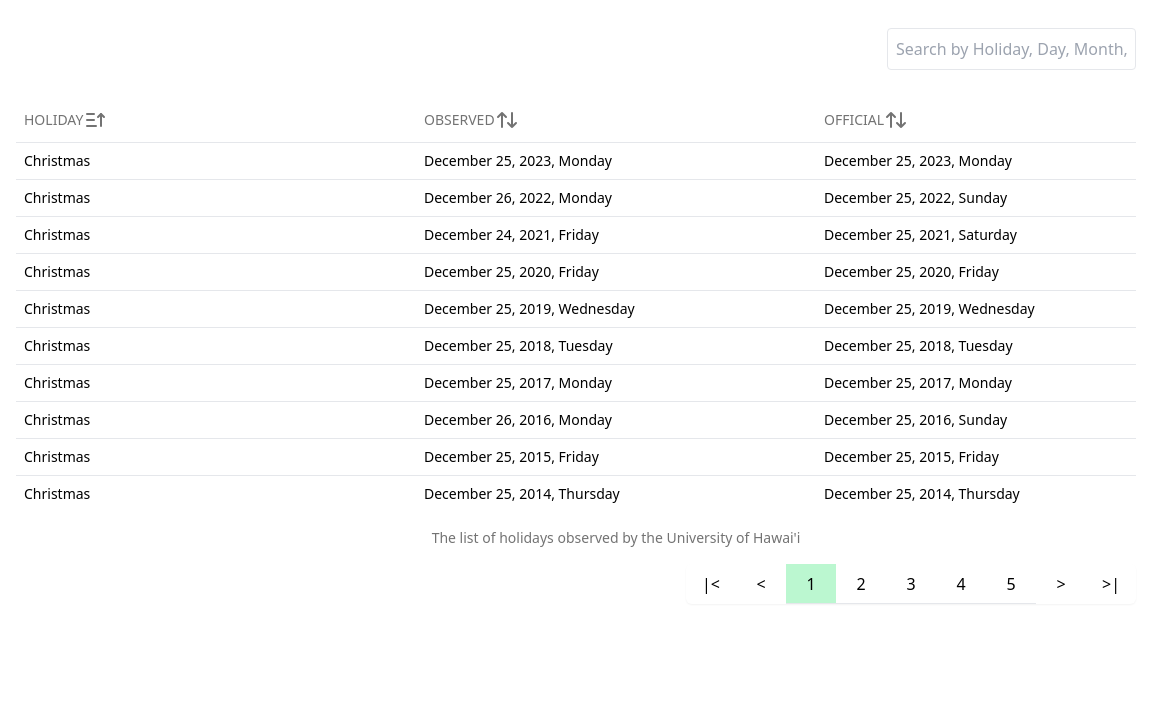
Pagination › First page and last page buttons access the correct pages.
The width and height of the screenshot is (1152, 720).
Click the button ">|". click: (1111, 584)
box: [1086,564,1136,604]
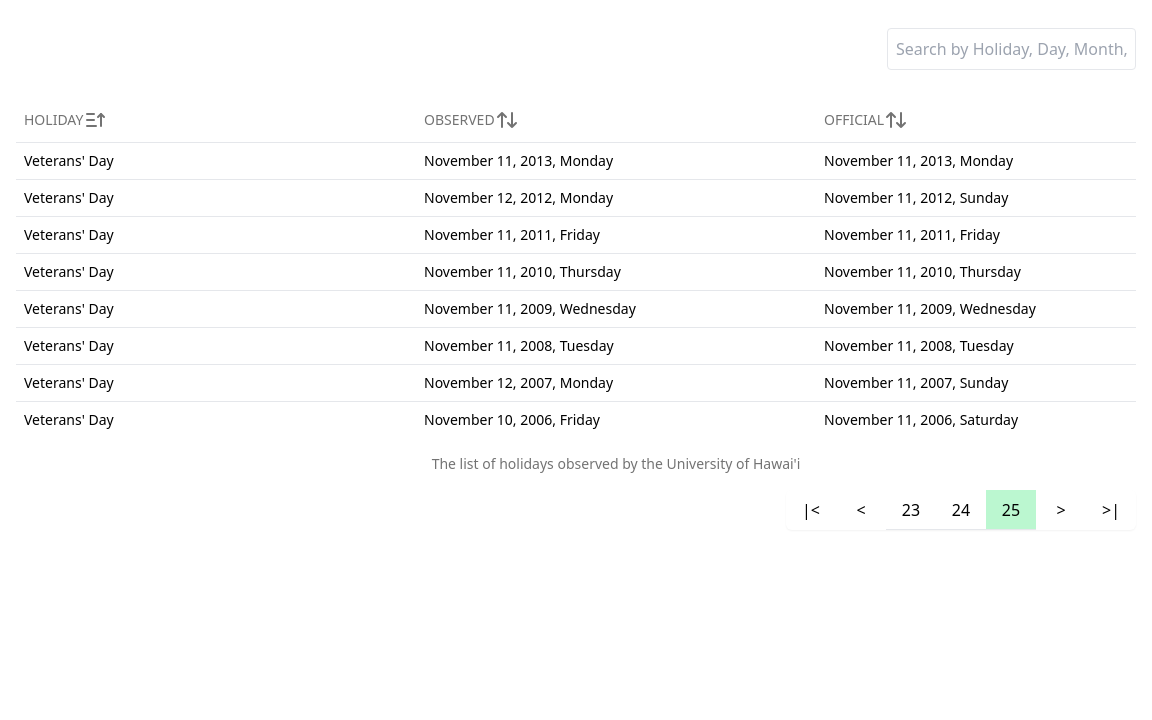
Expected: the number of buttons "25" is 1, [986,490,1036,530]
Click the button "|<". click: (811, 510)
box: [786,490,836,530]
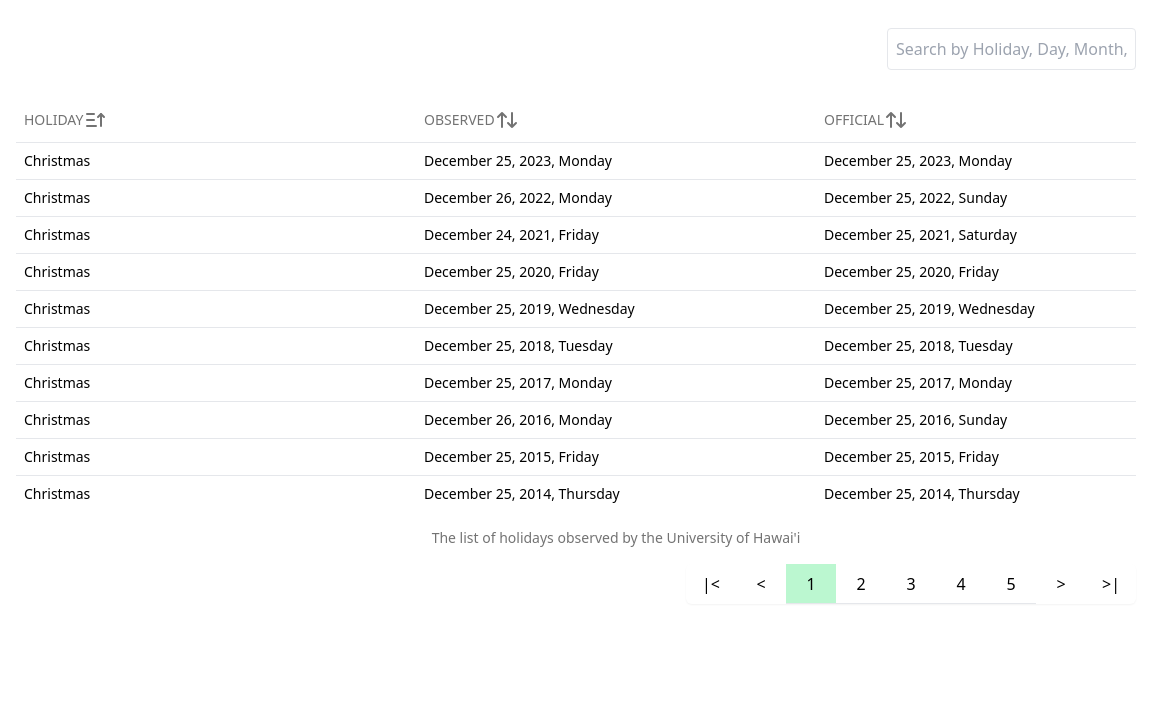
Expected: the number of buttons "1" is 1, [786,564,836,604]
